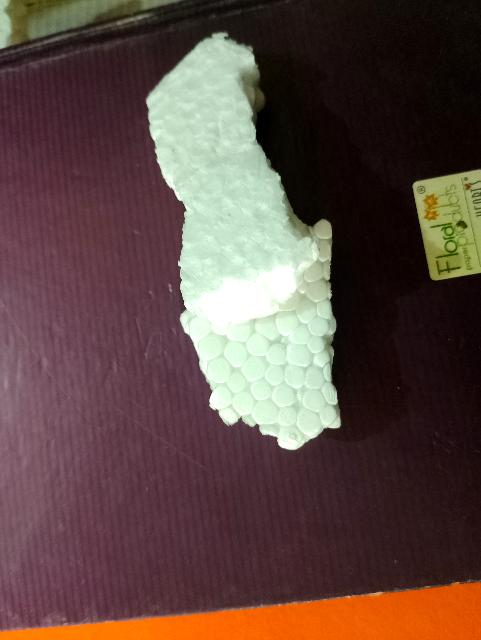cocksheet: (96, 27, 379, 481)
